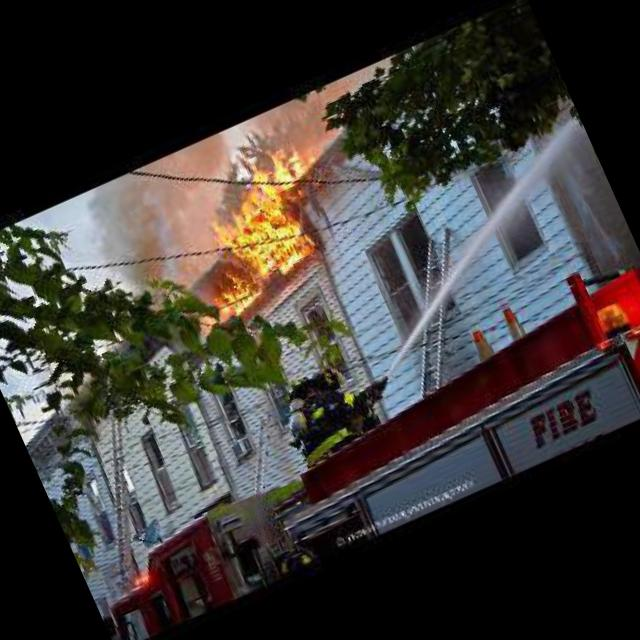fire: (162, 130, 364, 318)
smoke: (73, 151, 231, 309)
